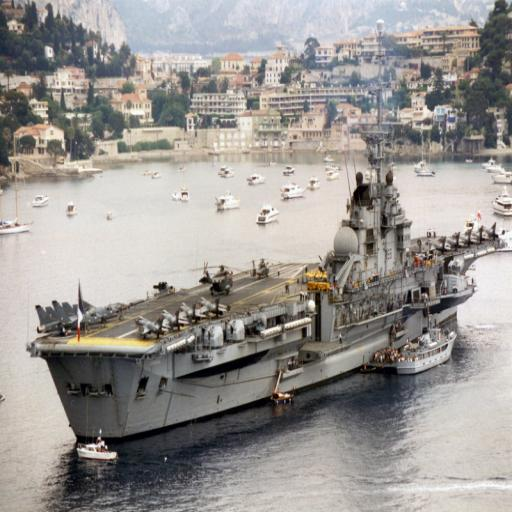Portanaves: (30, 130, 512, 461)
